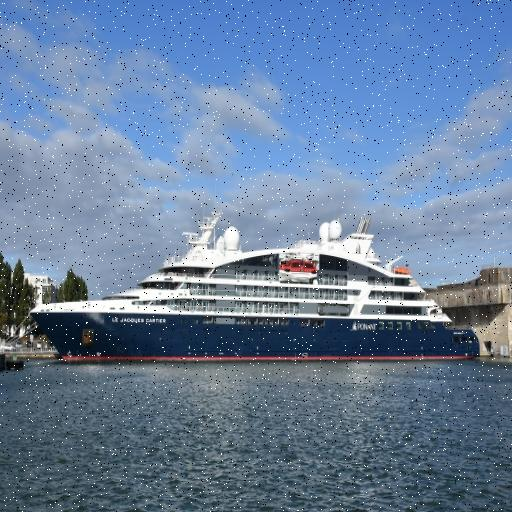cruises: (30, 210, 483, 369)
